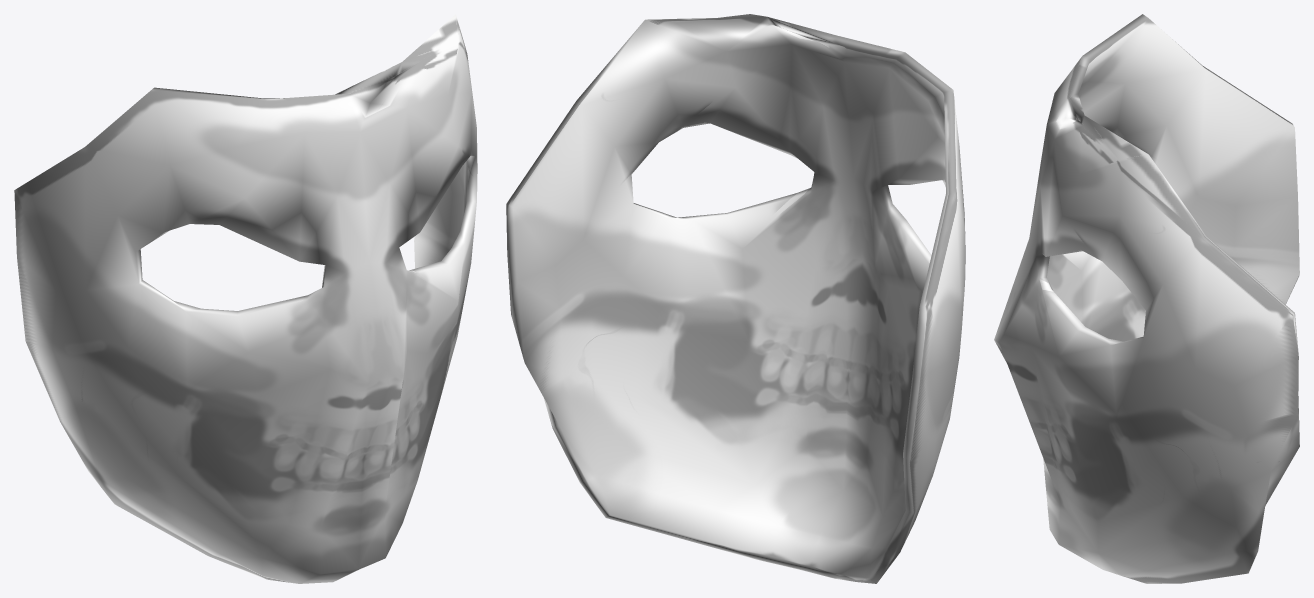
The model's file is mask.glb.
3 views of the same model, side by side, from view 1: azimuth 30°, elevation 25°; view 2: azimuth 150°, elevation 25°; view 3: azimuth 270°, elevation 25° (orthographic). The views are drawn at different scales.
Parts seen in each view (by area): view 1: mask; view 2: mask; view 3: mask.
Part boxes in pixels (x1=…): mask: x1=14, y1=14, x2=477, y2=583; mask: x1=506, y1=14, x2=965, y2=583; mask: x1=994, y1=14, x2=1299, y2=583.
Bounding box in the file's own units: 0.1522 × 0.1791 × 0.1021.
1 material, 1 textured.
